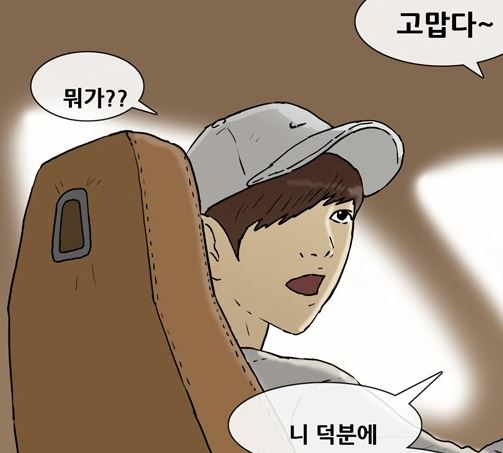hat: (182, 97, 411, 215)
